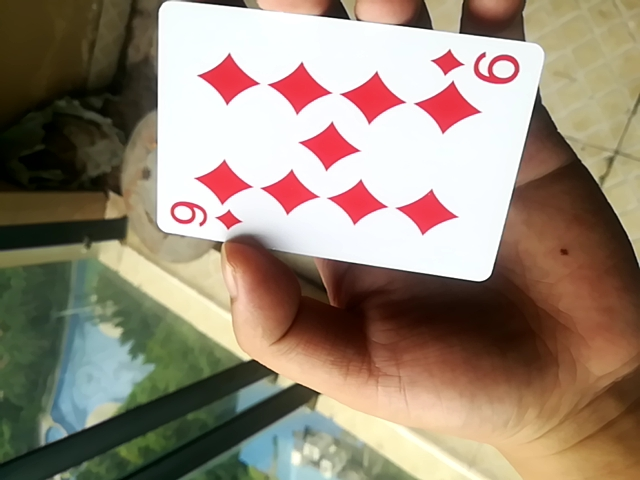fk 9: (147, 2, 541, 286)
